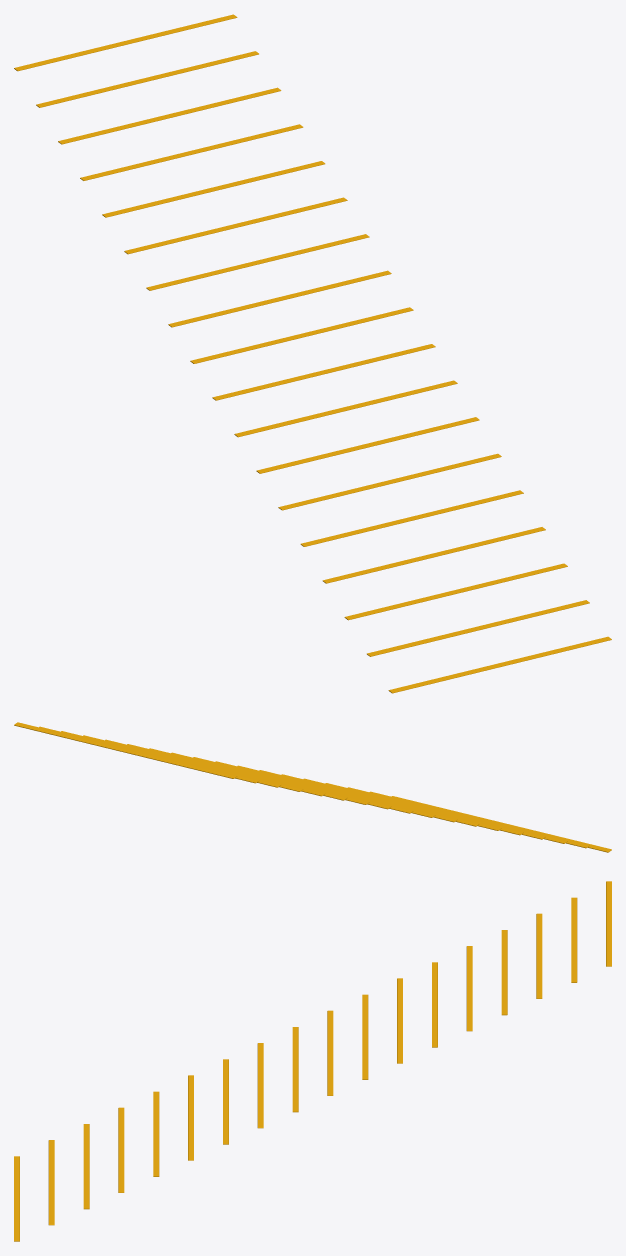
The model's file is gteki_ik_stair_n18_r168_t328_w1904_nosing.glb.
The picture shows the model from 3 angles, top to bottom: view 1: azimuth 30°, elevation 25°; view 2: azimuth 150°, elevation 25°; view 3: azimuth 270°, elevation 25°; orthographic projection. The views are drawn at different scales.
Parts seen in each view (by area): view 1: VIS_nosings; view 2: VIS_nosings; view 3: VIS_nosings.
Boxes of the visible parts, bbox=[...] form: VIS_nosings: bbox=[14, 14, 611, 693]; VIS_nosings: bbox=[14, 722, 611, 852]; VIS_nosings: bbox=[14, 881, 611, 1241].
Bounding box in the file's own units: 1.89 × 2.86 × 5.63.
